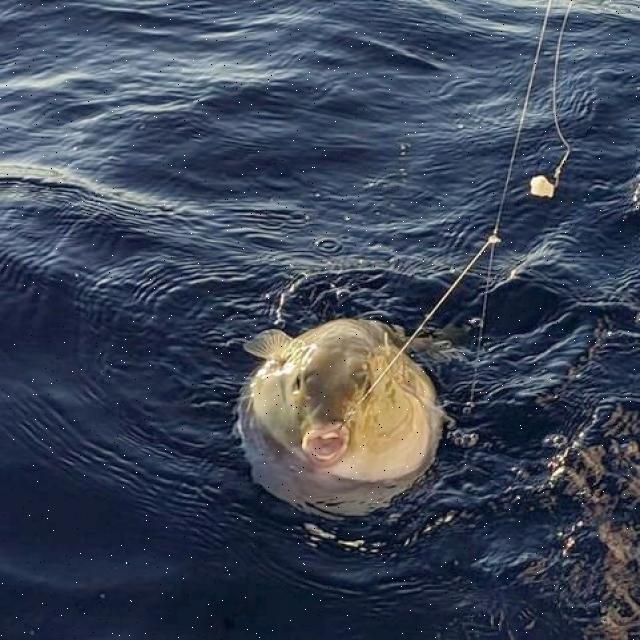Balik: (241, 319, 443, 482)
